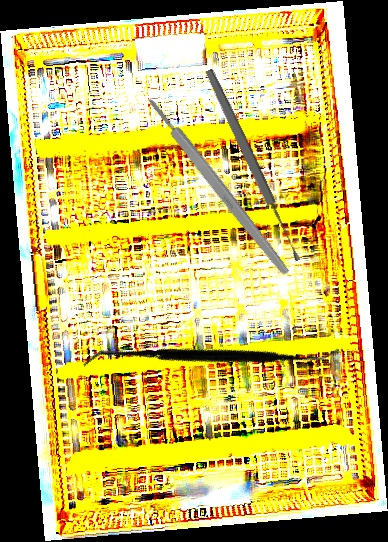Scalpel Handle: (144, 94, 293, 279)
Spatula Surgical: (81, 243, 342, 473)
Surgical Spoon: (202, 67, 304, 264)
